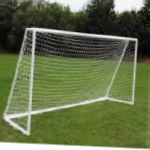goals: (4, 27, 140, 136)
